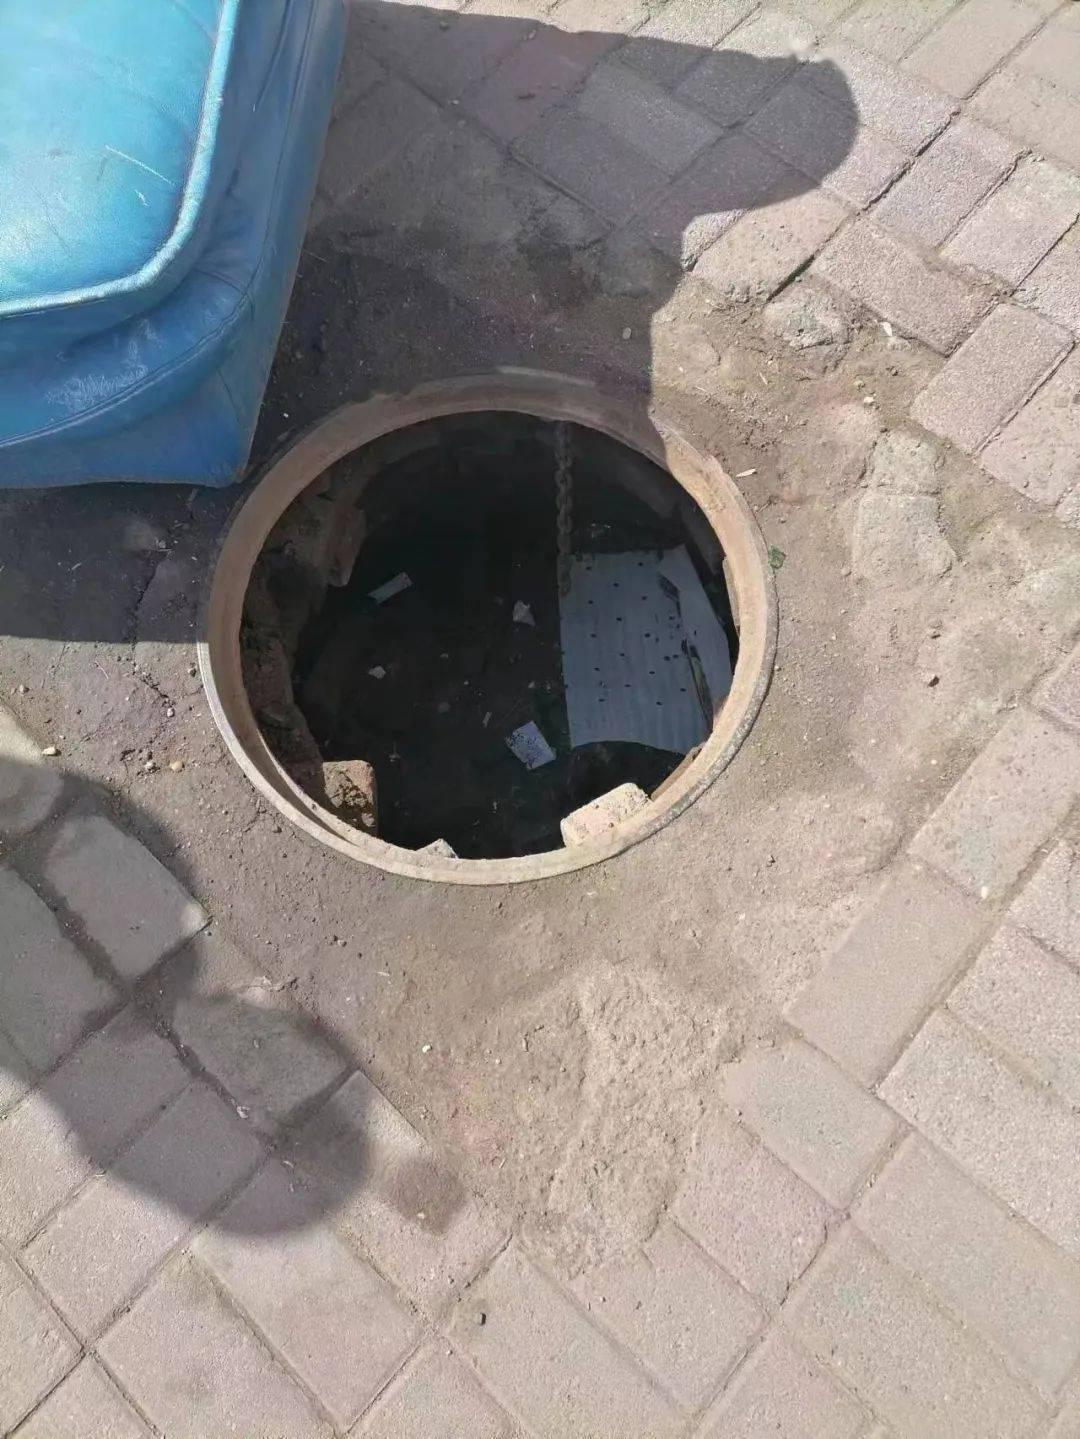wellcover: (211, 386, 796, 886)
